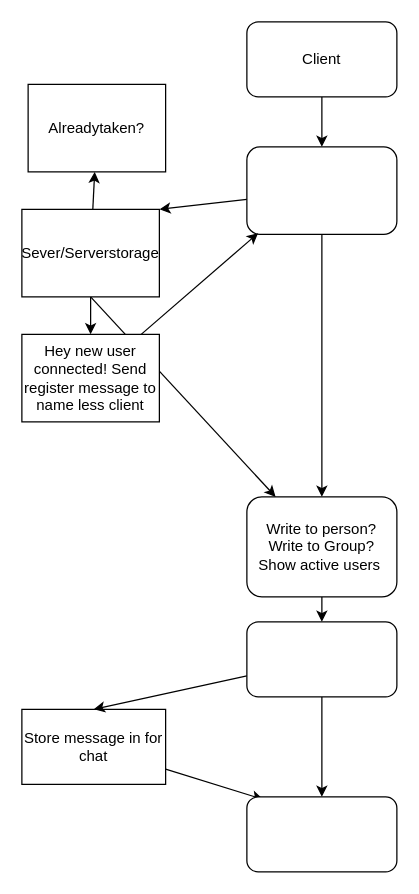
Image size: 419x894. Some labels were removed from this diagram. The shapes that lost their labels are listed below. From the top down, each one's box as (x1, y1, x2, y2) in pixels, then its label:
(246, 146, 397, 234): Hi, Register a name
(246, 621, 397, 697): Sendmesage
(246, 796, 397, 872): Recive Read chat
